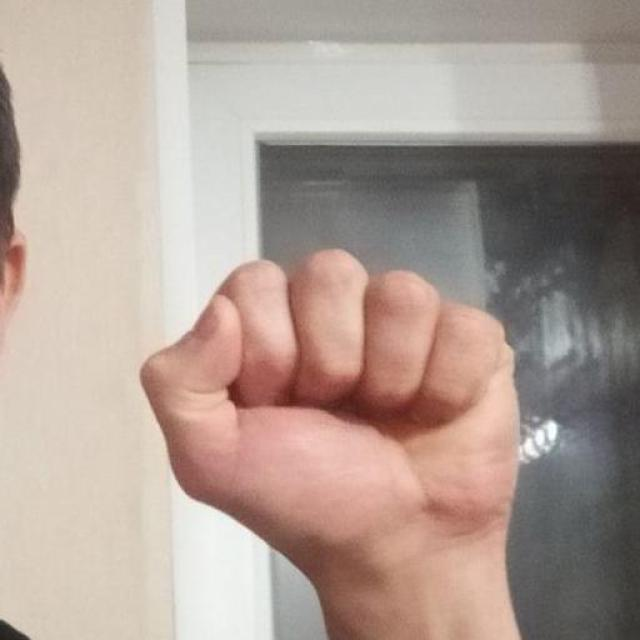hand: (138, 246, 530, 639)
